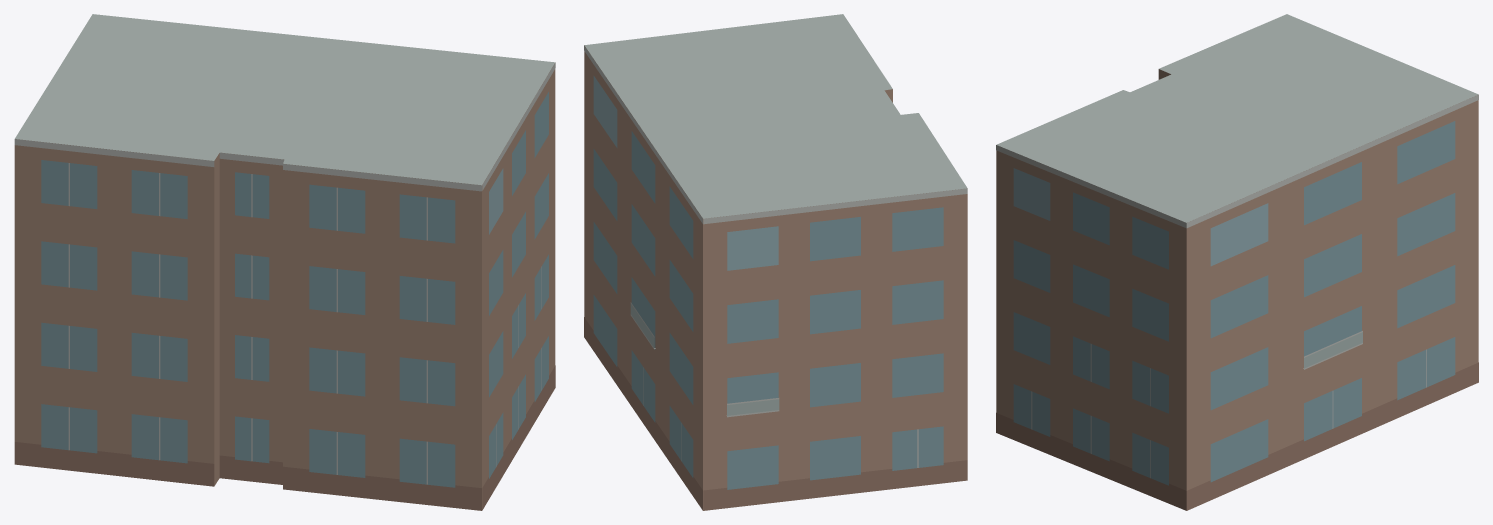
File: survey-upis-32749472.glb
3 renders of one model, left to right at view 1: azimuth 30°, elevation 25°; view 2: azimuth 150°, elevation 25°; view 3: azimuth 270°, elevation 25°, orthographic. The views are drawn at different scales.
Visible parts, largest first — view 1: survey-upis-32749472.tmp; view 2: survey-upis-32749472.tmp; view 3: survey-upis-32749472.tmp.
Part boxes in pixels (bbox=[...]): survey-upis-32749472.tmp: bbox=[14, 14, 555, 510]; survey-upis-32749472.tmp: bbox=[584, 14, 967, 510]; survey-upis-32749472.tmp: bbox=[996, 14, 1478, 510].
Bounding box in the file's own units: 19.92 × 12.8 × 19.45.
